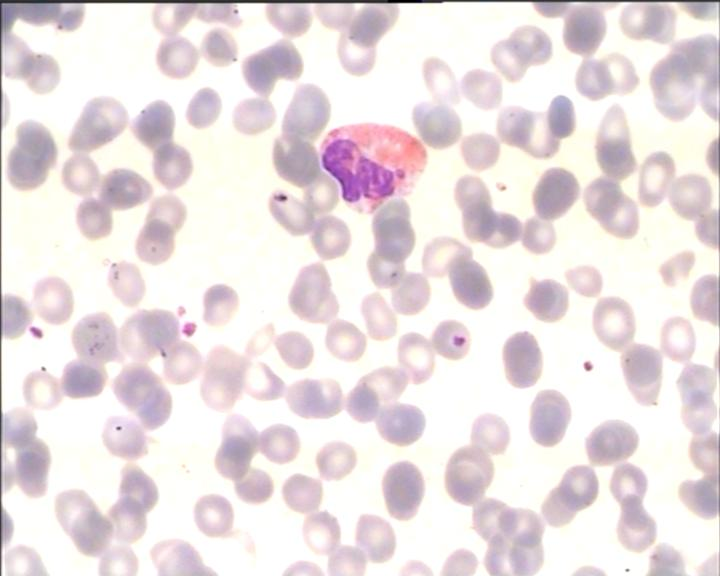eosi: (319, 123, 428, 216)
